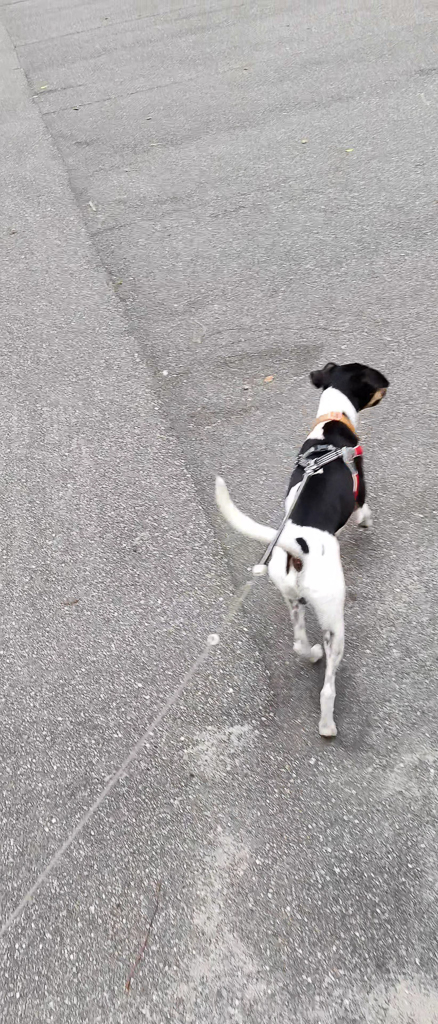Dog: (207, 355, 397, 744)
